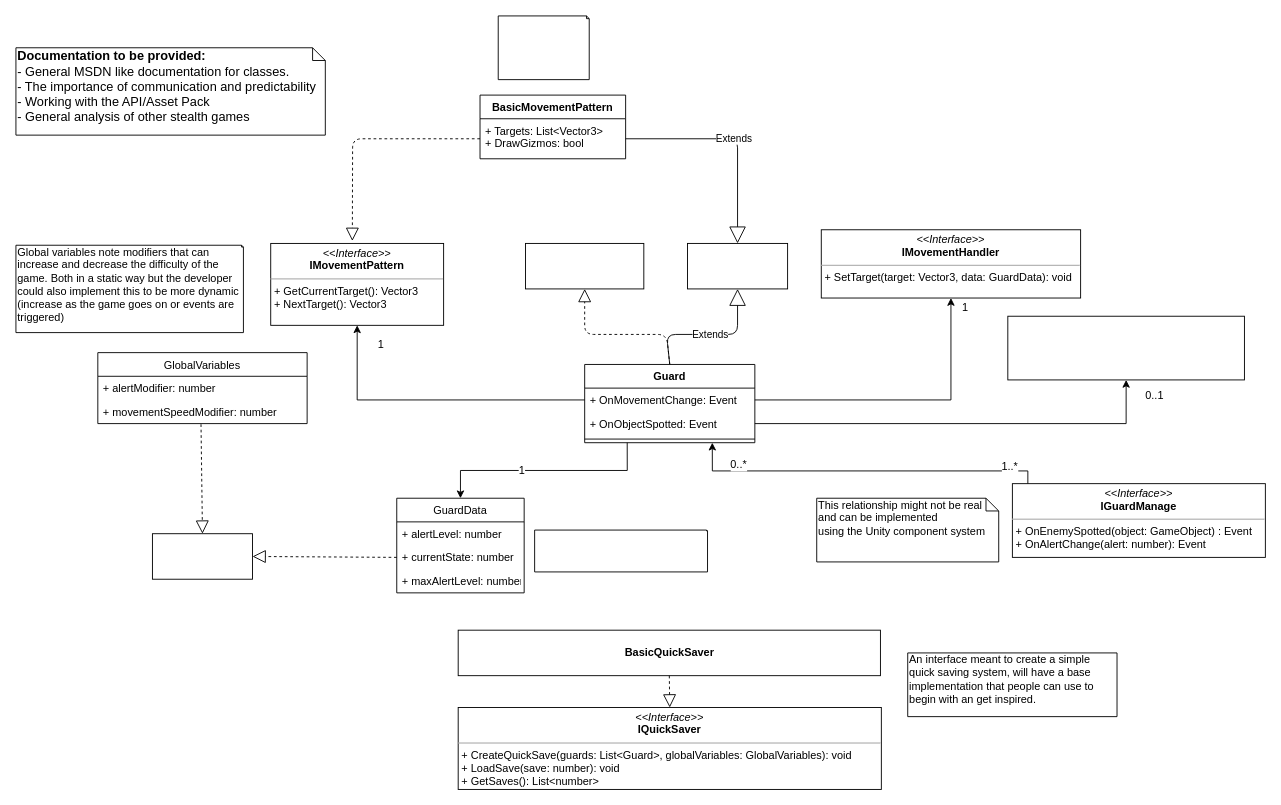
This 1281x805 diagram has some shape labels left out. The centre of each missing label's shape, as x and y in pixels:
<<Interface>> ISoundclipPlayer + PlaySoundclip(data: GuardData): void: (x=1125, y=347)
Contains all information about the guards that other scripts may need to know: (x=621, y=550)
MonoBehaviour: (x=737, y=266)
Targets are set using the Unity editor: (x=543, y=47)
«interface» ISerializable: (x=202, y=556)
«interface» ISimpleStateMachine: (x=584, y=266)
